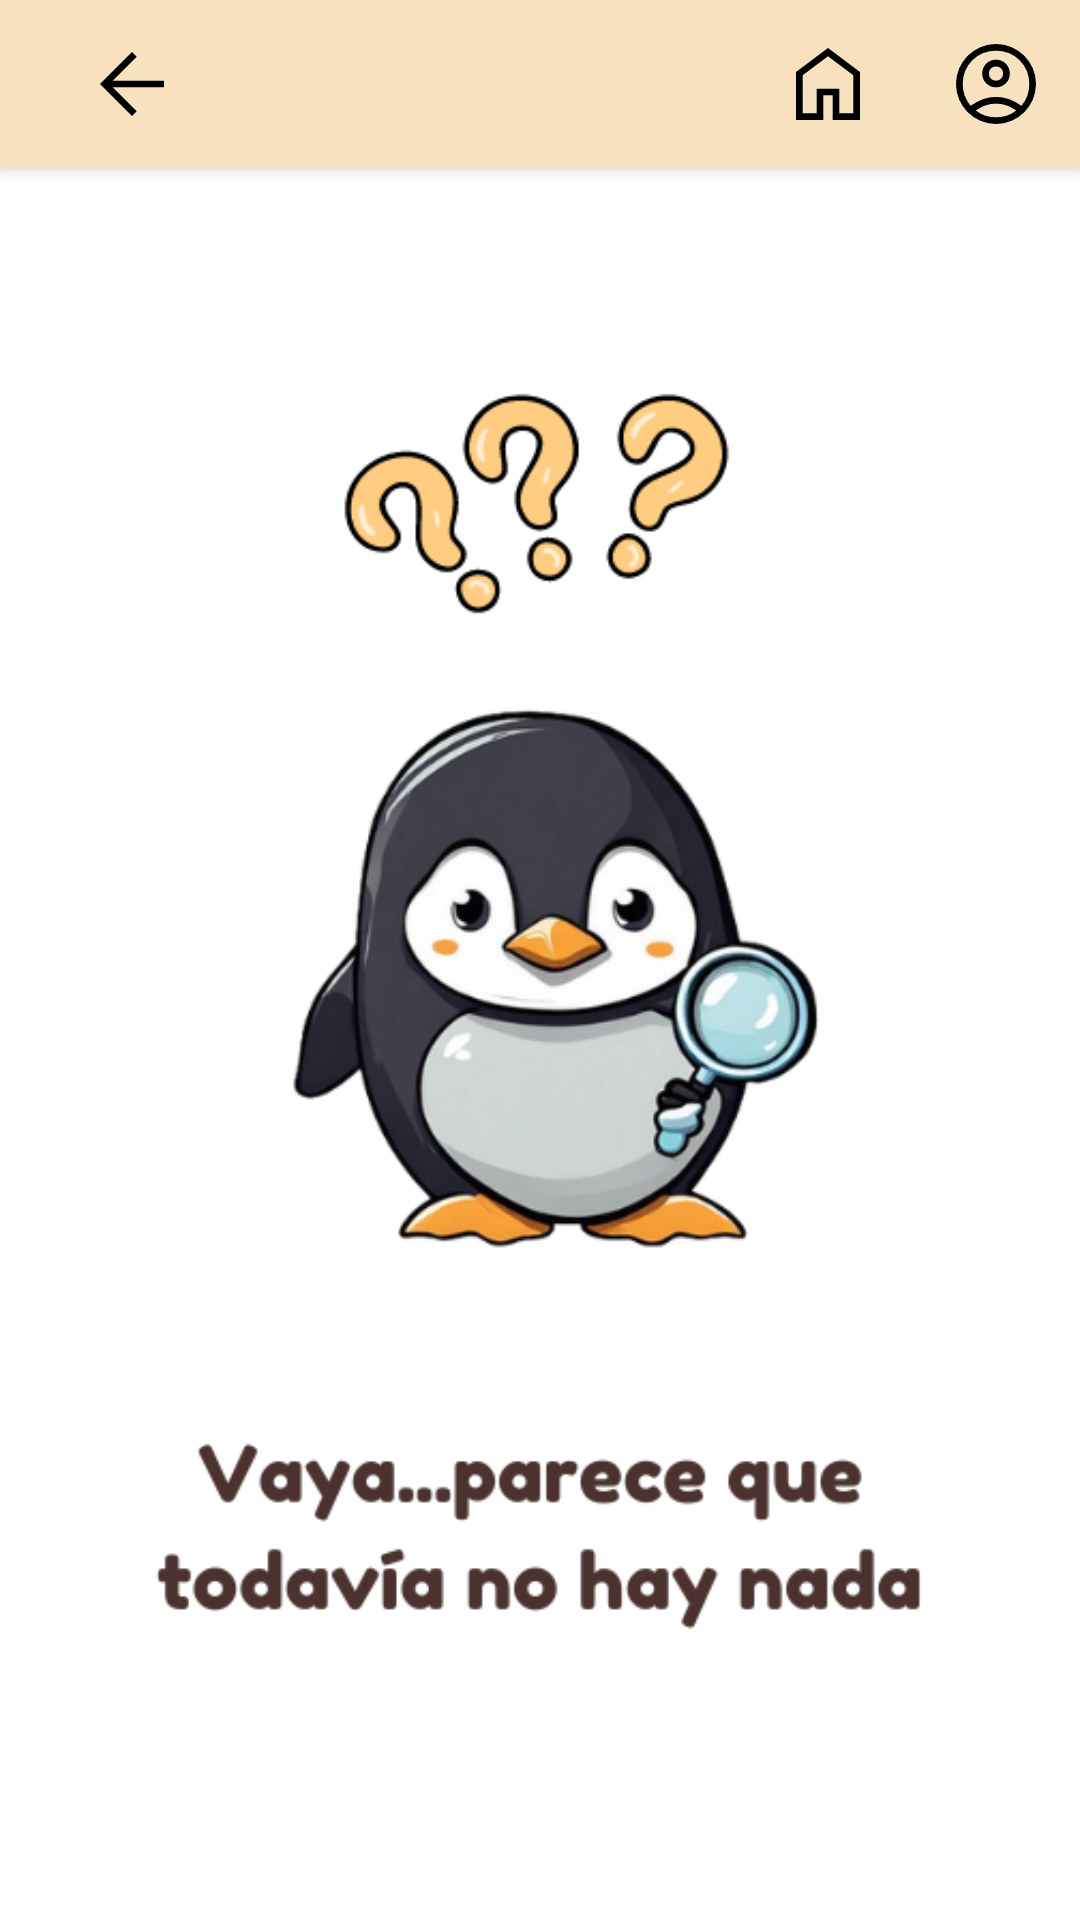

Locate icon controls on the screen. Image size 1080px×1920px, boxes as [left=x1, top=y1, right=x2, bottom=y2].
back: [left=100, top=52, right=164, bottom=116]
